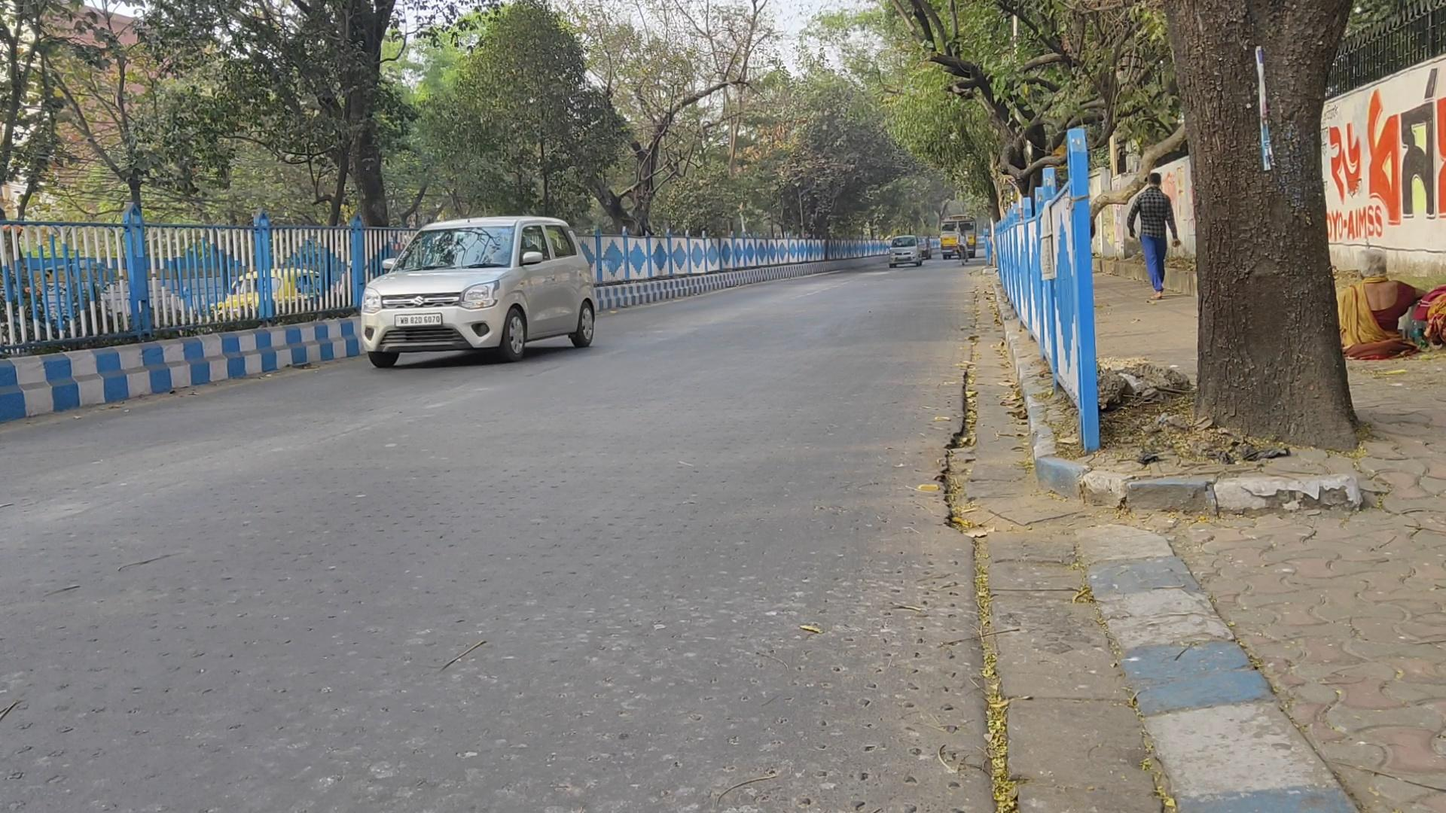Bus: (938, 213, 977, 262)
bike: (956, 229, 971, 269)
car: (358, 216, 597, 368), (886, 233, 922, 269)
